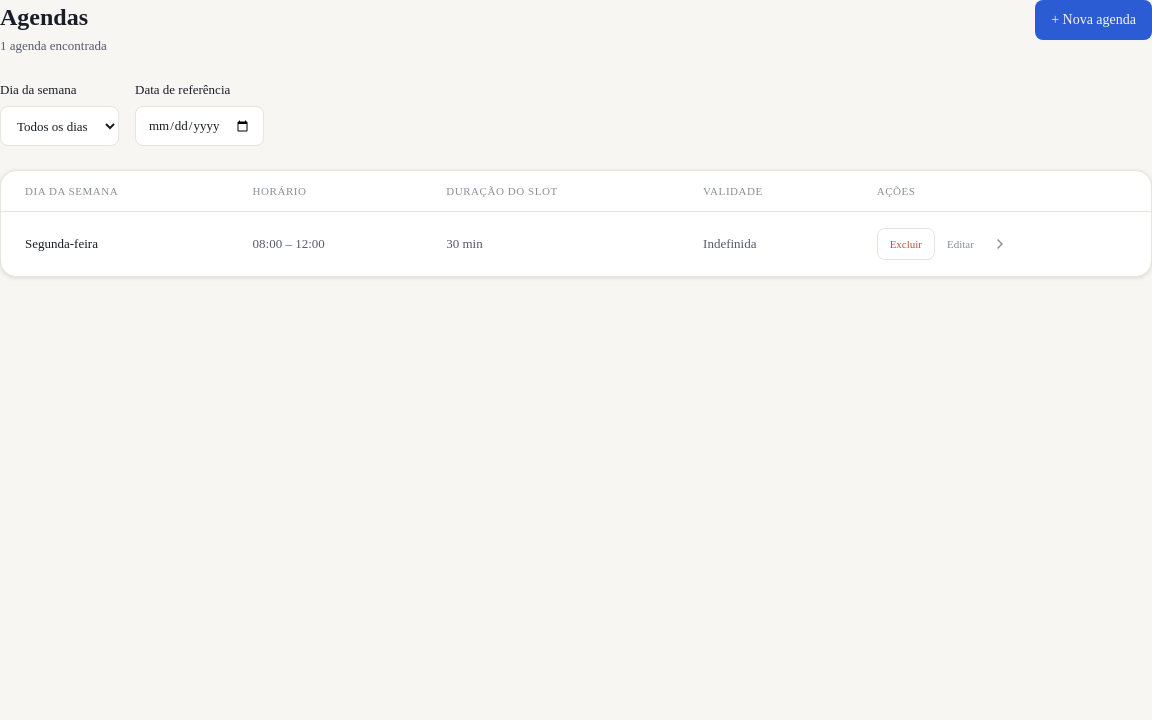
it: ScheduleList (integration) › as DOCTOR › closes dialog on delete error without showing success message
expect the table with test id "schedule-list-table" is shown: met, box x1=1 y1=171 x2=1151 y2=276
Click the button with test id "schedule-delete-button-uuid-1".
click(906, 244)  # box x1=877 y1=228 x2=935 y2=260
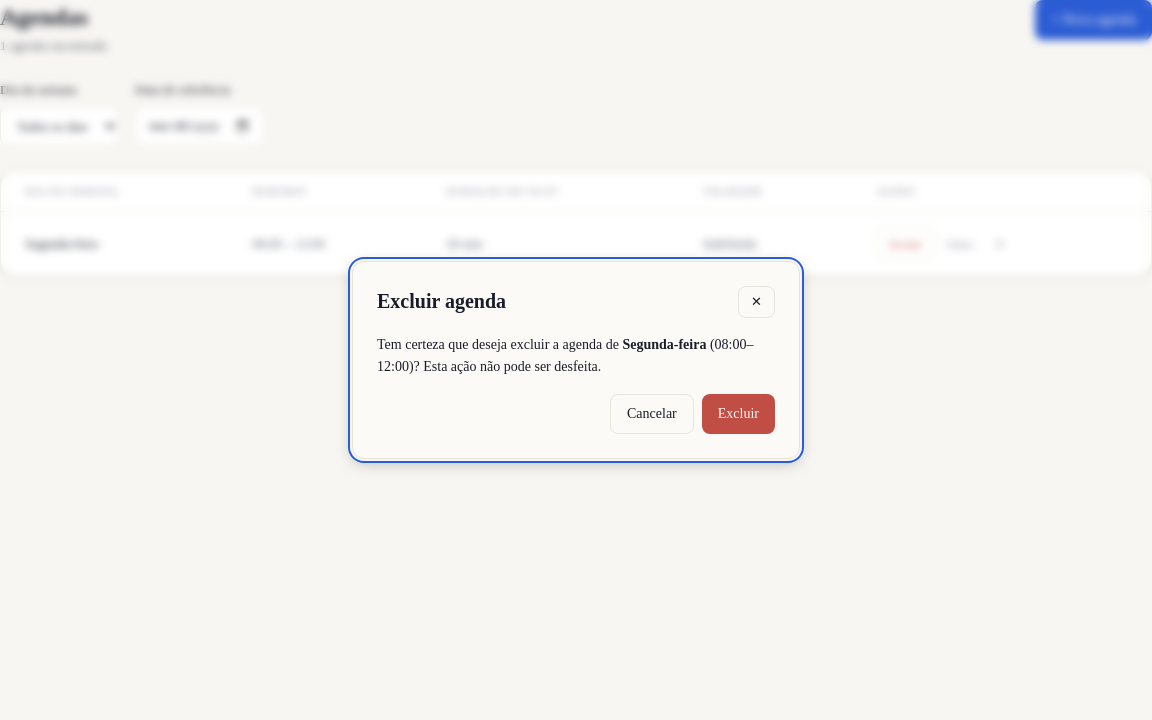
Click the button with test id "delete-schedule-dialog-confirm".
click(738, 414)  # box x1=702 y1=394 x2=775 y2=434
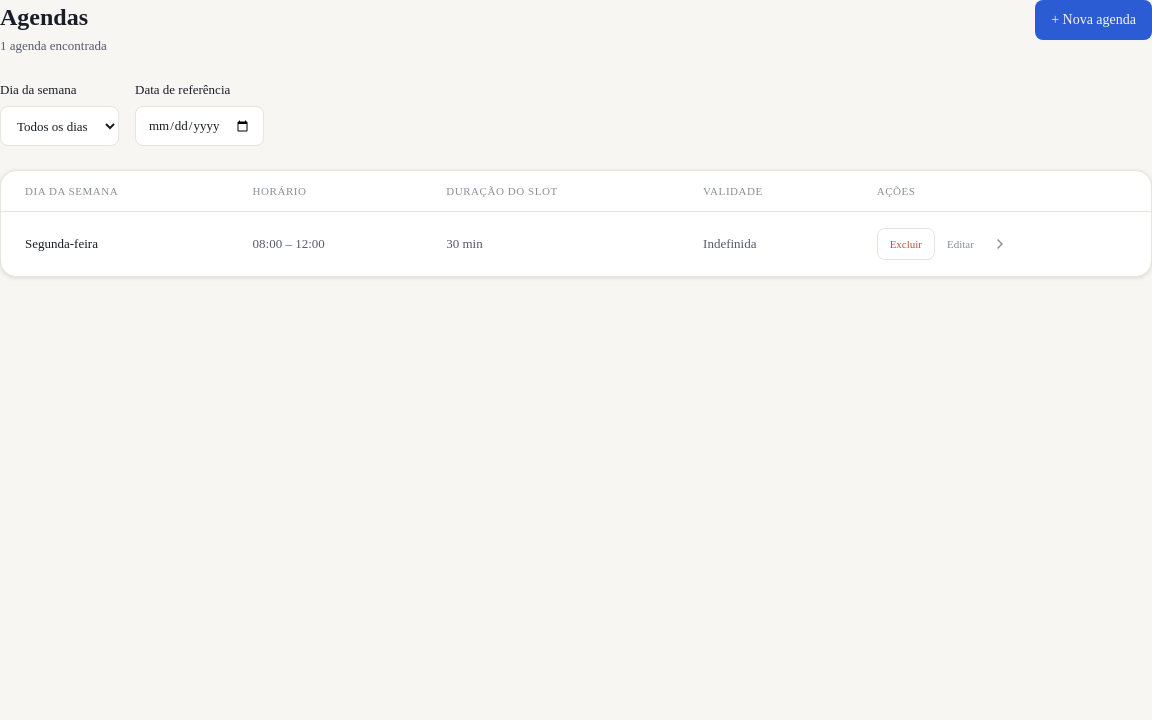
expect the button with test id "delete-schedule-dialog-confirm" is gone: met
